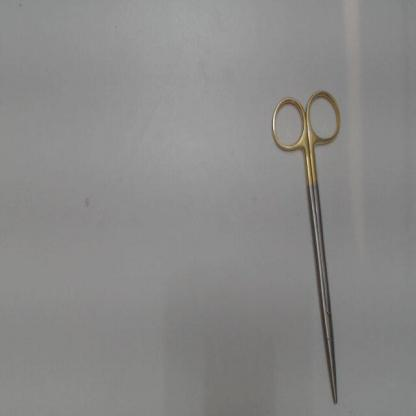7 Metzenbaum Scissors: (267, 84, 347, 411)
